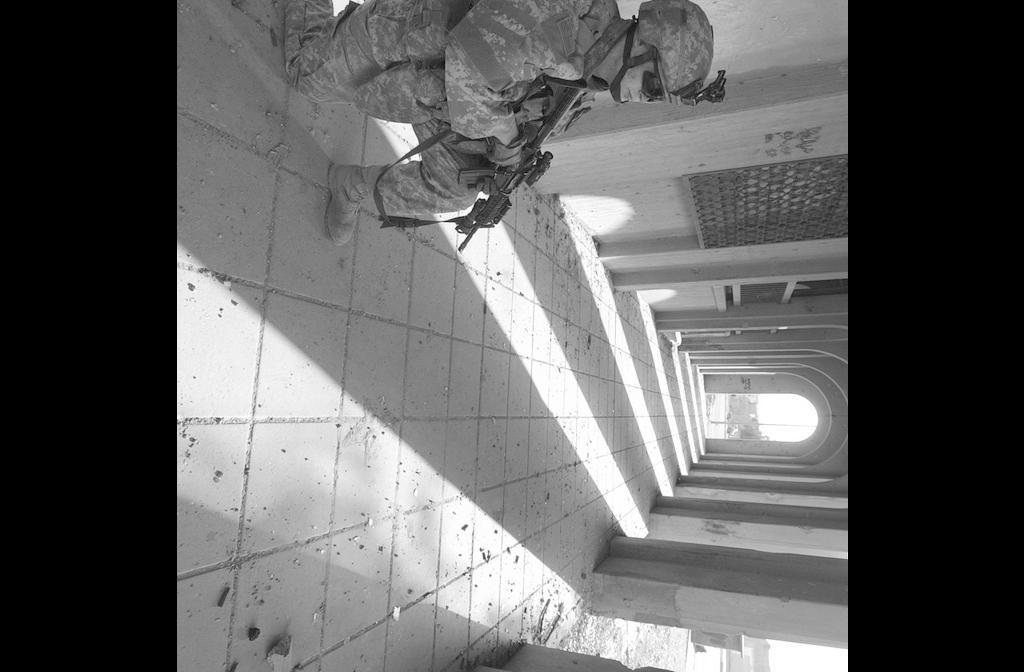gun: (437, 76, 592, 256)
